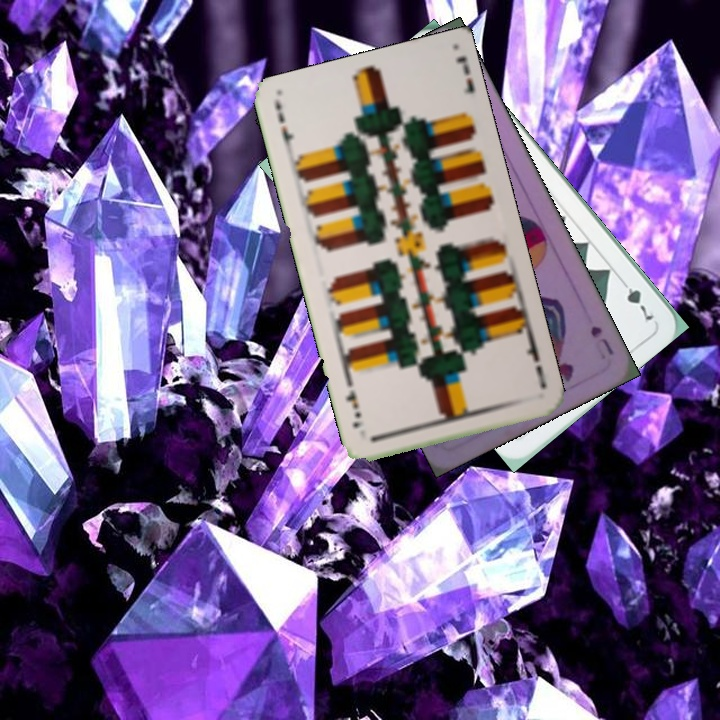E7: (522, 334, 549, 392), (271, 100, 296, 158)
G7: (615, 273, 657, 324)
SU: (586, 321, 616, 363)
